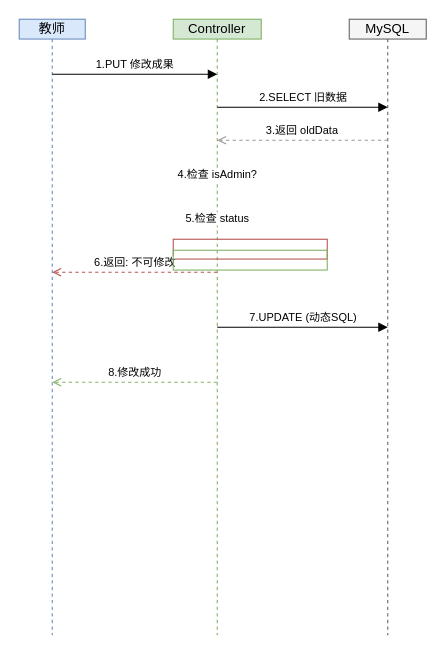
Image size: 446x655. Some labels were removed from this diagram. The shapes that lost their labels are listed below. From the top down, each one's centre as x and y in pixels, then its label:
[249,248]: [status=3] 已通过
[249,259]: [status=0/4] 可编辑
